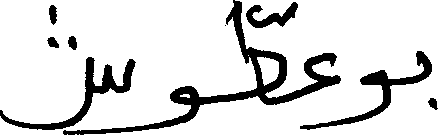ب: (413, 49, 437, 110)
ش: (0, 2, 135, 132)
ط: (228, 0, 285, 105)
ع: (302, 50, 340, 97)
و: (357, 67, 391, 121), (169, 83, 198, 127)
